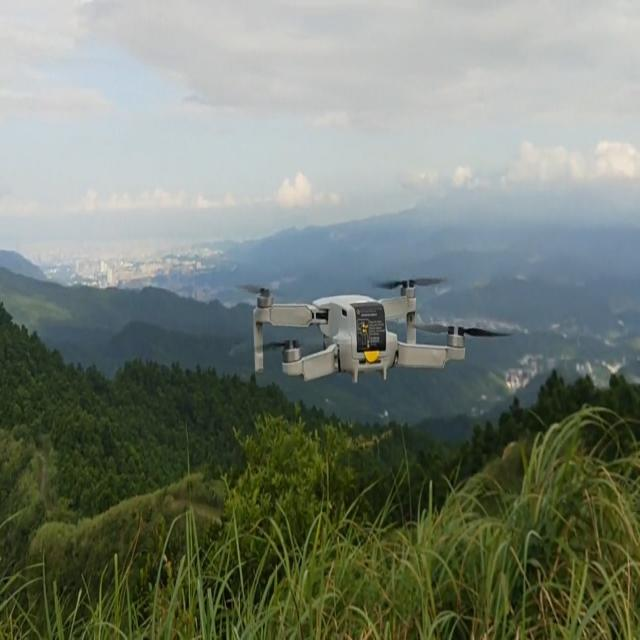Drone: (223, 230, 474, 420)
